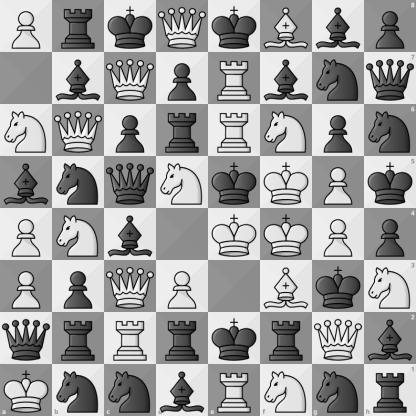B: (261, 1, 312, 52), (261, 261, 312, 312)
K: (0, 364, 52, 416), (209, 209, 260, 260), (261, 157, 312, 208), (261, 209, 312, 260)
N: (260, 364, 312, 416), (364, 260, 416, 312), (1, 105, 52, 156), (53, 209, 104, 260), (157, 157, 208, 208), (261, 105, 312, 156)
P: (1, 1, 52, 52), (1, 209, 52, 260), (1, 261, 52, 312), (157, 261, 208, 312), (313, 157, 364, 208), (313, 209, 364, 260)
Q: (53, 105, 104, 156), (105, 53, 156, 104), (105, 261, 156, 312), (157, 1, 208, 52), (313, 313, 364, 364)
R: (209, 364, 260, 416), (105, 313, 156, 364), (209, 53, 260, 104), (209, 105, 260, 156)
b: (156, 364, 209, 416), (364, 312, 416, 364), (1, 157, 52, 208), (53, 53, 104, 104), (105, 209, 156, 260), (261, 53, 312, 104), (313, 1, 364, 52)
board: (0, 0, 415, 415)
k: (364, 156, 416, 209), (105, 1, 156, 52), (209, 1, 260, 52), (209, 157, 260, 208), (209, 313, 260, 364), (313, 261, 364, 312)
n: (52, 364, 104, 416), (104, 364, 156, 416), (312, 364, 364, 416), (364, 104, 416, 156), (53, 157, 104, 208), (313, 53, 364, 104)
p: (364, 0, 416, 52), (364, 209, 416, 260), (53, 261, 104, 312), (105, 105, 156, 156), (157, 53, 208, 104), (313, 105, 364, 156)
q: (364, 52, 416, 104), (1, 313, 52, 364), (105, 157, 156, 208)
r: (364, 364, 416, 416), (53, 1, 104, 52), (53, 313, 104, 364), (157, 105, 208, 156), (157, 313, 208, 364), (261, 313, 312, 364)
